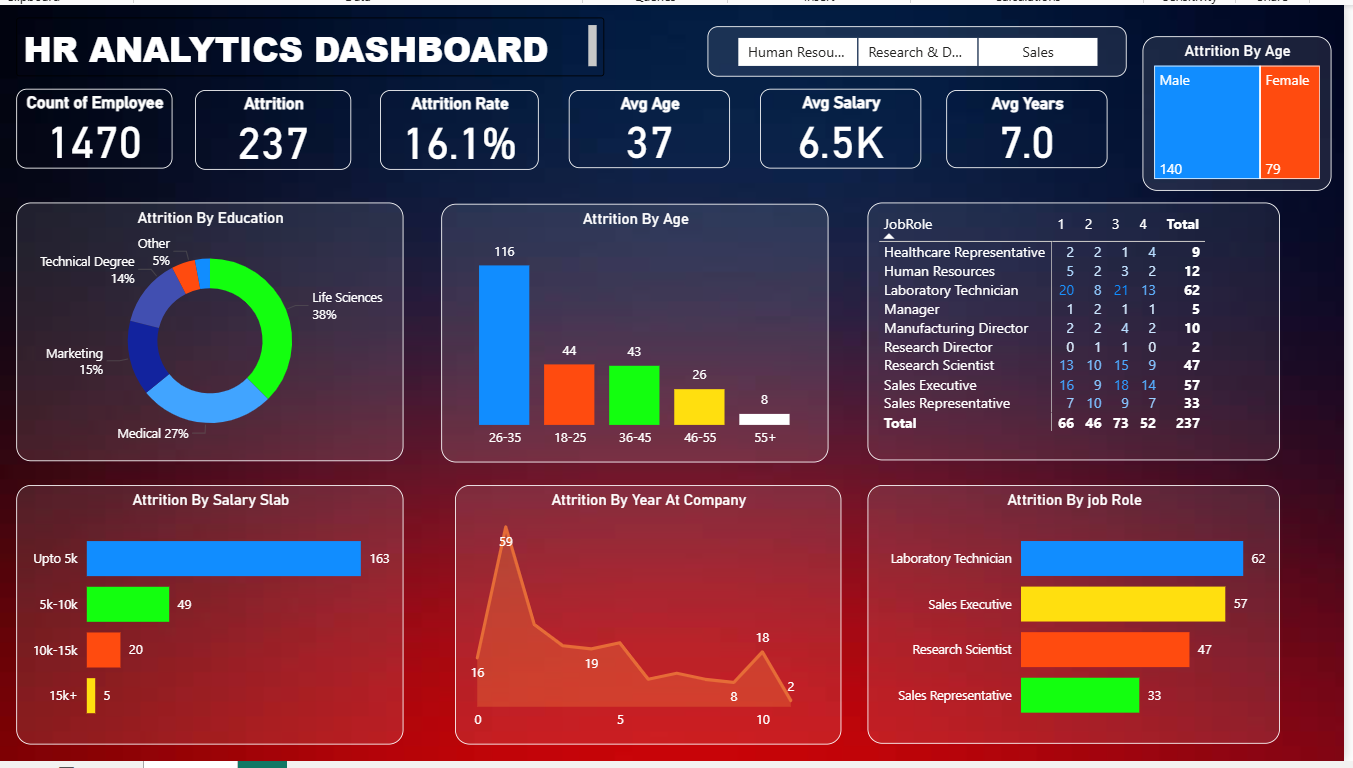

The page's visual inventory and layout, read from the dashboard file:
{"tool":"powerbi","page":{"name":"Page 1","canvas":[1280,720],"ordinal":0},"visuals":[{"type":"card","title":"Attrition","fields":{"Values":["Sum(HR_Analytics.Atrritioncount)"]},"box":[186.1,80.5,148.9,75.6],"z":0},{"type":"card","title":"Attrition Rate","fields":{"Values":["HR_Analytics.AtrritionRate"]},"box":[361.4,80.5,151.3,75.6],"z":1000},{"type":"card","title":"Count of Employee","fields":{"Values":["CountNonNull(HR_Analytics.EmpID)"]},"box":[15.6,79.2,148.9,75.6],"z":2000},{"type":"card","title":"Avg Age","fields":{"Values":["Avg(HR_Analytics.Age)"]},"box":[541.5,80.5,153.7,74.4],"z":3000},{"type":"card","title":"Avg Salary","fields":{"Values":["Avg(HR_Analytics.MonthlyIncome)"]},"box":[724.1,79.2,153.7,75.6],"z":4000},{"type":"card","title":"Avg Years","fields":{"Values":["Avg(HR_Analytics.YearsAtCompany)"]},"box":[901.8,80.5,153.7,74.4],"z":5000},{"type":"donutChart","title":"Attrition By Education","fields":{"Category":["HR_Analytics.EducationField"],"Y":["Sum(HR_Analytics.Atrritioncount)"]},"box":[15.6,188.5,368.6,246.2],"z":6000},{"type":"columnChart","title":"Attrition By Age","fields":{"Category":["HR_Analytics.AgeGroup"],"Y":["Sum(HR_Analytics.Atrritioncount)"]},"box":[420.2,189.3,369,246.4],"z":7000},{"type":"pivotTable","fields":{"Rows":["HR_Analytics.JobRole"],"Columns":["HR_Analytics.JobSatisfaction"],"Values":["Sum(HR_Analytics.Atrritioncount)"]},"box":[826.2,188.1,392.9,245.2],"z":8000},{"type":"barChart","title":"Attrition By Salary Slab","fields":{"Category":["HR_Analytics.SalarySlab"],"Y":["Sum(HR_Analytics.Atrritioncount)"]},"box":[15.1,456.9,369.1,247],"z":9000},{"type":"barChart","title":"Attrition By job Role","fields":{"Category":["HR_Analytics.JobRole"],"Y":["Sum(HR_Analytics.Atrritioncount)"]},"box":[826.2,457.1,392.9,246.4],"z":10000},{"type":"areaChart","title":"Attrition By Year At Company","fields":{"Category":["HR_Analytics.YearsAtCompany"],"Y":["Sum(HR_Analytics.Atrritioncount)"]},"box":[433.6,456.9,367.8,247],"z":11000},{"type":"treemap","title":"Attrition By Age","fields":{"Group":["HR_Analytics.Gender"],"Values":["Sum(HR_Analytics.Atrritioncount)"]},"box":[1088.2,30.2,179.8,146.8],"z":12000},{"type":"slicer","fields":{"Values":["HR_Analytics.Department"]},"box":[673.8,20.2,398.8,47.6],"z":13000},{"type":"textbox","box":[15.1,12.3,559.9,56.3],"z":14000}]}

Visuals, with their boxes in screenshot pixels (x1, y1, x2, y2), scaled from the page's 1280x720 canvas onto the 1353x768 screenshot:
"Attrition" card: crop(197, 86, 354, 167)
"Attrition Rate" card: crop(382, 86, 542, 167)
"Count of Employee" card: crop(16, 84, 174, 165)
"Avg Age" card: crop(572, 86, 735, 165)
"Avg Salary" card: crop(765, 84, 928, 165)
"Avg Years" card: crop(953, 86, 1116, 165)
"Attrition By Education" donutChart: crop(16, 201, 406, 464)
"Attrition By Age" columnChart: crop(444, 202, 834, 465)
pivotTable - HR_Analytics.JobRole x HR_Analytics.JobSatisfaction: crop(873, 201, 1289, 462)
"Attrition By Salary Slab" barChart: crop(16, 487, 406, 751)
"Attrition By job Role" barChart: crop(873, 488, 1289, 750)
"Attrition By Year At Company" areaChart: crop(458, 487, 847, 751)
"Attrition By Age" treemap: crop(1150, 32, 1340, 189)
slicer - HR_Analytics.Department: crop(712, 22, 1134, 72)
textbox: crop(16, 13, 608, 73)
